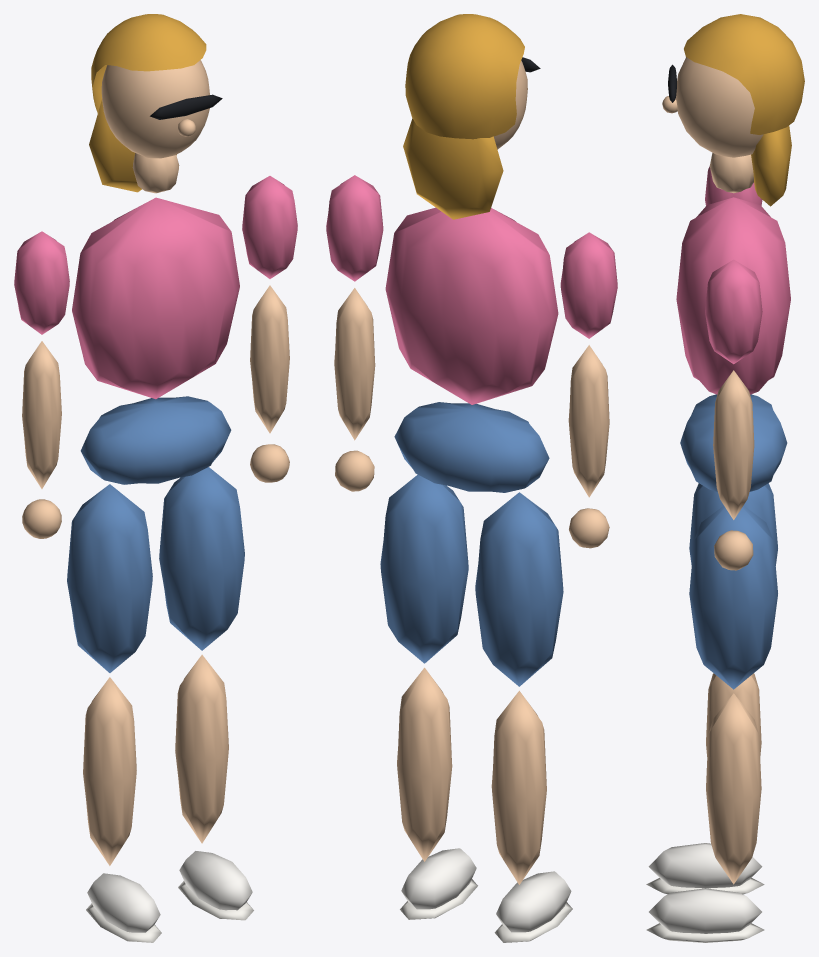
The model's file is getkong-hhped8.glb.
3 renders of one model, left to right at view 1: azimuth 30°, elevation 25°; view 2: azimuth 150°, elevation 25°; view 3: azimuth 270°, elevation 25°, orthographic. The views are drawn at different scales.
Parts seen in each view (by area): view 1: rumpf, beinL, beinR, kopf, armL, armR; view 2: rumpf, beinL, beinR, kopf, armR, armL; view 3: beinR, rumpf, kopf, armR, beinL, armL.
Boxes of the visible parts, x1=… form: rumpf: x1=72, y1=153, x2=239, y2=484; beinL: x1=67, y1=484, x2=161, y2=942; beinR: x1=159, y1=467, x2=253, y2=920; kopf: x1=89, y1=14, x2=222, y2=192; armL: x1=14, y1=231, x2=69, y2=538; armR: x1=242, y1=176, x2=297, y2=482; rumpf: x1=385, y1=207, x2=558, y2=492; beinL: x1=475, y1=492, x2=572, y2=942; beinR: x1=380, y1=474, x2=477, y2=919; kopf: x1=403, y1=14, x2=540, y2=219; armR: x1=326, y1=175, x2=383, y2=491; armL: x1=560, y1=232, x2=617, y2=548; beinR: x1=646, y1=505, x2=777, y2=942; rumpf: x1=676, y1=153, x2=790, y2=491; kopf: x1=662, y1=14, x2=804, y2=206; armR: x1=705, y1=259, x2=762, y2=570; beinL: x1=646, y1=483, x2=777, y2=894; armL: x1=705, y1=166, x2=762, y2=205.
Size of the model in its own units: 0.5718 by 1.74 by 0.2807.
